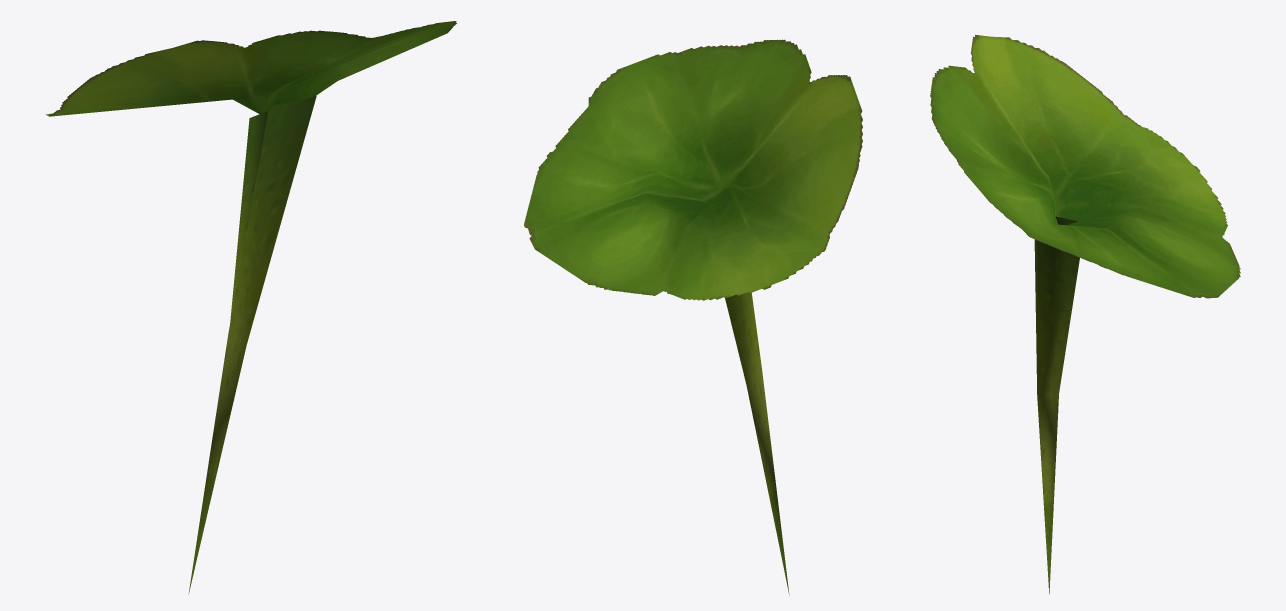
The model's file is LotusL05.FBX.
3 renders of one model, left to right at view 1: azimuth 30°, elevation 25°; view 2: azimuth 150°, elevation 25°; view 3: azimuth 270°, elevation 25°, orthographic. The views are drawn at different scales.
Visible parts, largest first — view 1: Lotus04; view 2: Lotus04; view 3: Lotus04.
Boxes of the visible parts, x1,y1,x2,y2 form: Lotus04: (45,21,456,593); Lotus04: (524,39,862,594); Lotus04: (930,34,1240,594).
Size of the model in its own units: 122 by 104 by 173.
